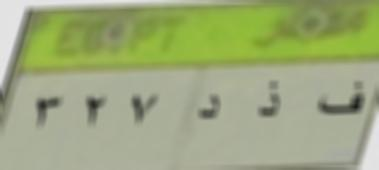2: (81, 90, 108, 134)
3: (26, 90, 66, 138)
7: (128, 92, 163, 134)
daal: (195, 90, 223, 125)
faa: (310, 74, 368, 124)
zaal: (253, 74, 288, 124)
